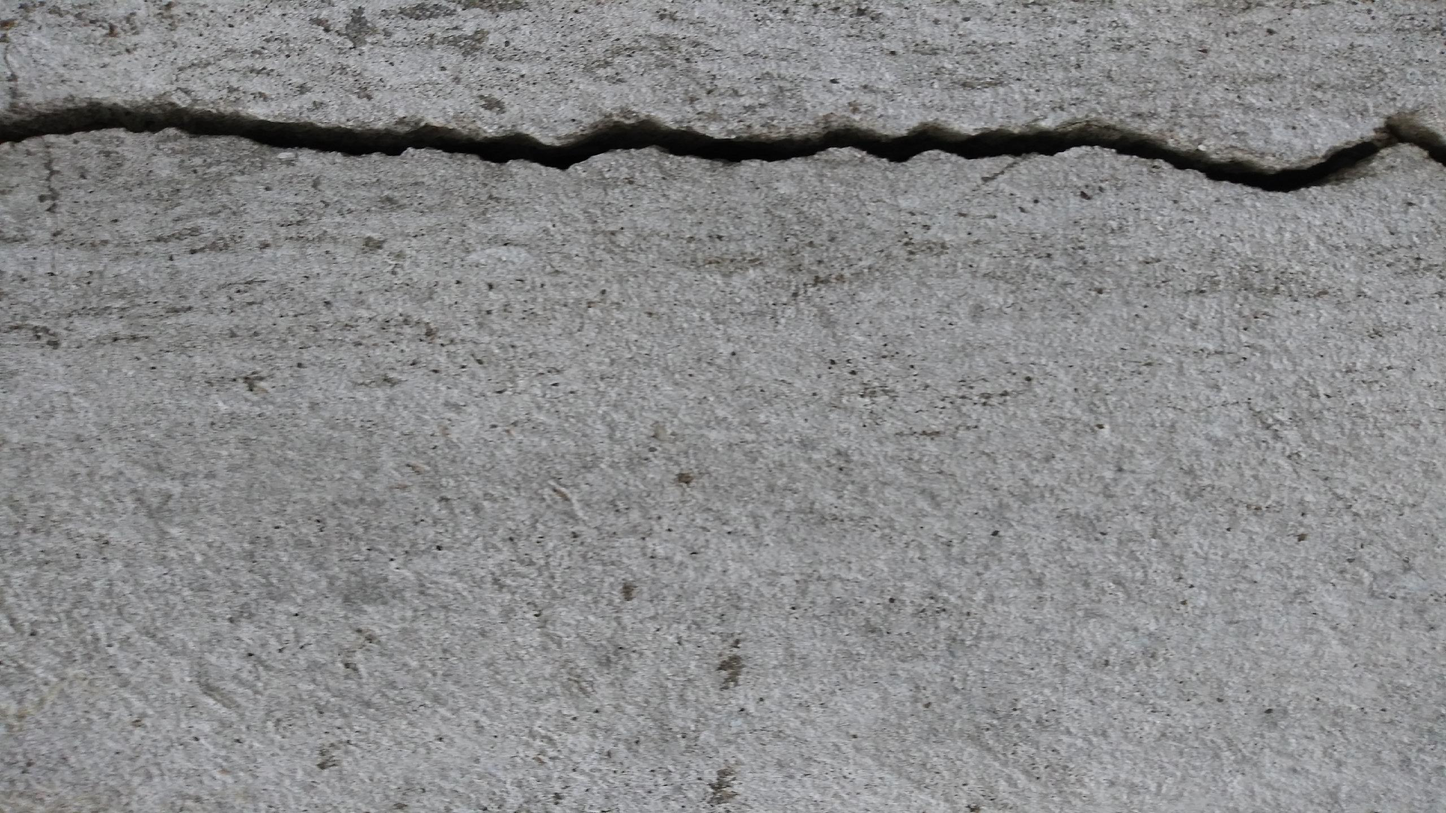crack: (3, 102, 1445, 188)
